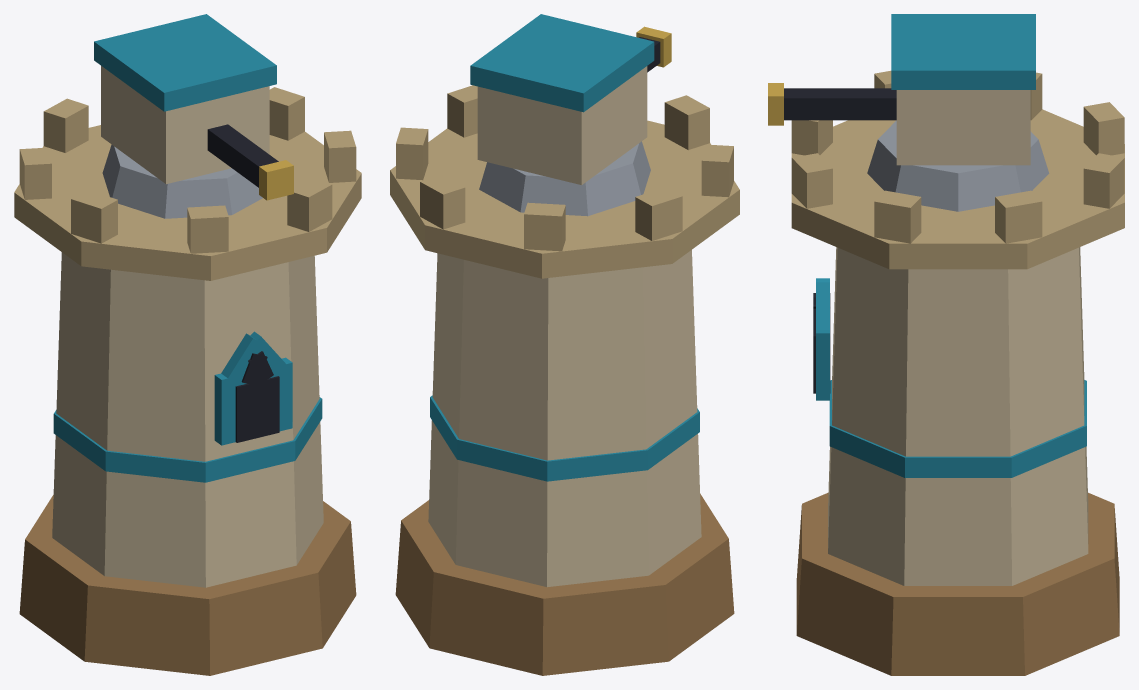
File: tower_t2.glb
3 views of the same model, side by side, from view 1: azimuth 30°, elevation 25°; view 2: azimuth 150°, elevation 25°; view 3: azimuth 270°, elevation 25° (orthographic). The views are drawn at different scales.
Parts seen in each view (by area): view 1: body, part_turret; view 2: body, part_turret; view 3: body, part_turret.
Part boxes in pixels (box(x1,y1,x2,y2)): body: box(14, 87, 361, 675); part_turret: box(94, 14, 293, 218); body: box(390, 85, 739, 675); part_turret: box(470, 14, 671, 216); body: box(791, 70, 1124, 675); part_turret: box(768, 14, 1049, 211).
Size of the model in its own units: 1.18 by 2.21 by 1.27.
